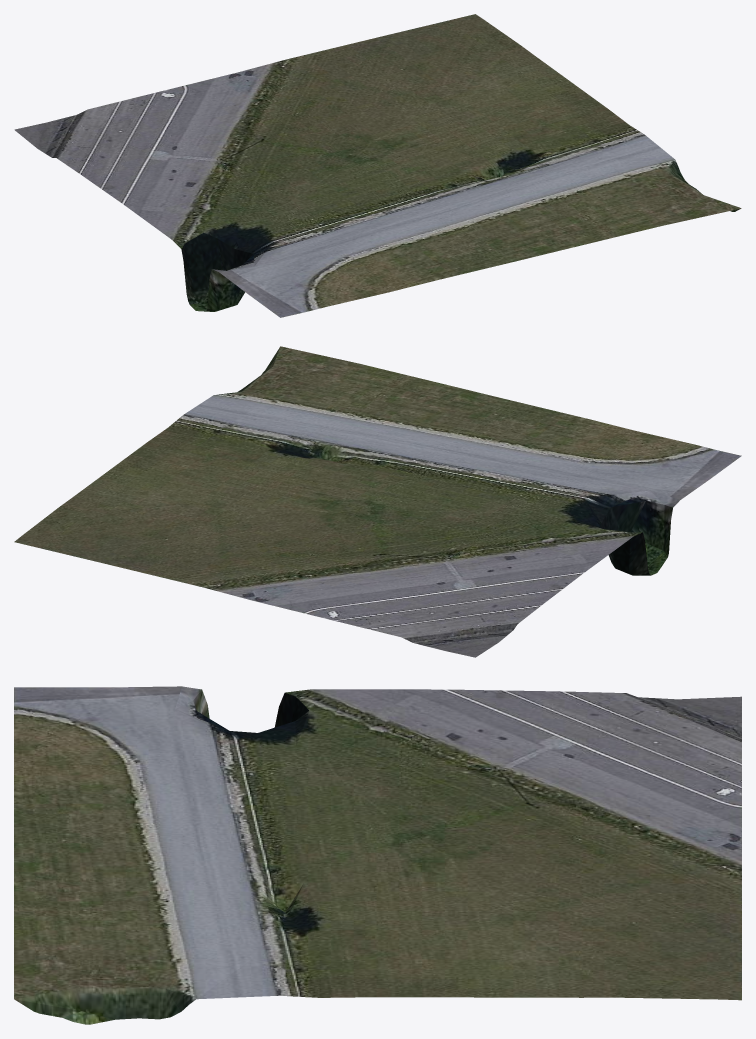
Rendered from map_15_8187_13782.dae.
3 views of the same model, one above another, from view 1: azimuth 30°, elevation 25°; view 2: azimuth 150°, elevation 25°; view 3: azimuth 270°, elevation 25° (orthographic). The views are drawn at different scales.
Parts seen in each view (by area): view 1: Ter0; view 2: Ter0; view 3: Ter0.
Boxes of the visible parts, box(x1,y1,x2,y2) form: Ter0: box(14, 14, 741, 317); Ter0: box(14, 346, 741, 657); Ter0: box(14, 686, 741, 1024).
Size of the model in its own units: 63.87 by 63.88 by 7.59.
2 materials, 2 textured.
